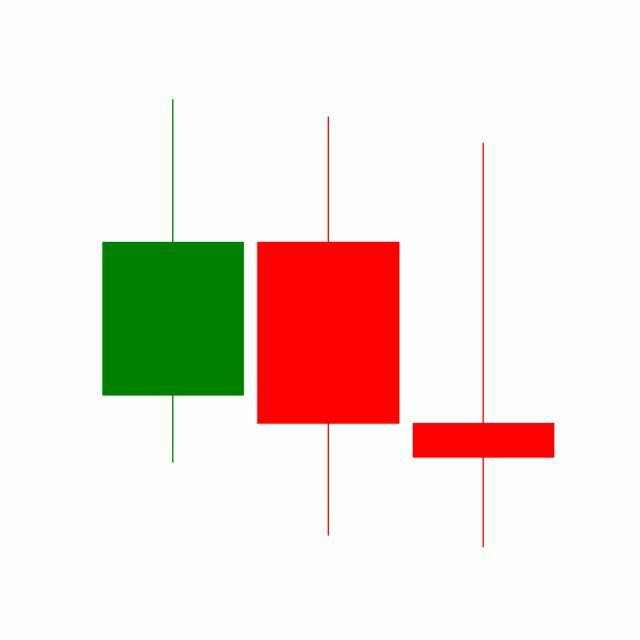Spinning Top: (406, 139, 562, 553)
